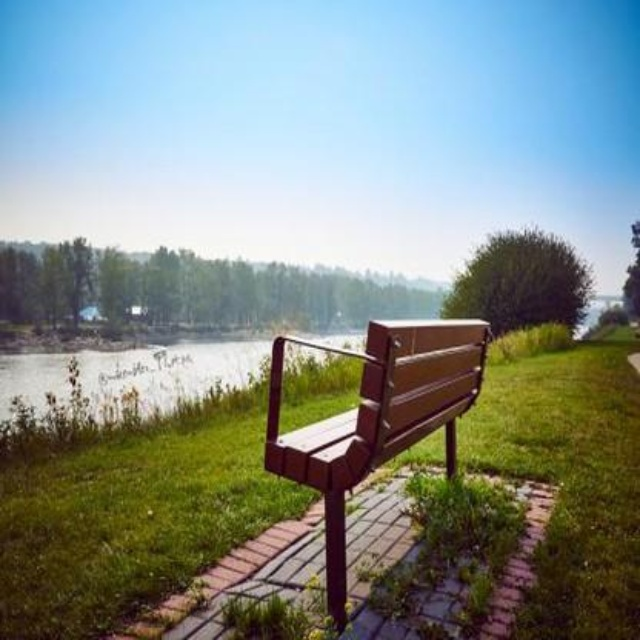obstacle: (251, 300, 505, 631)
